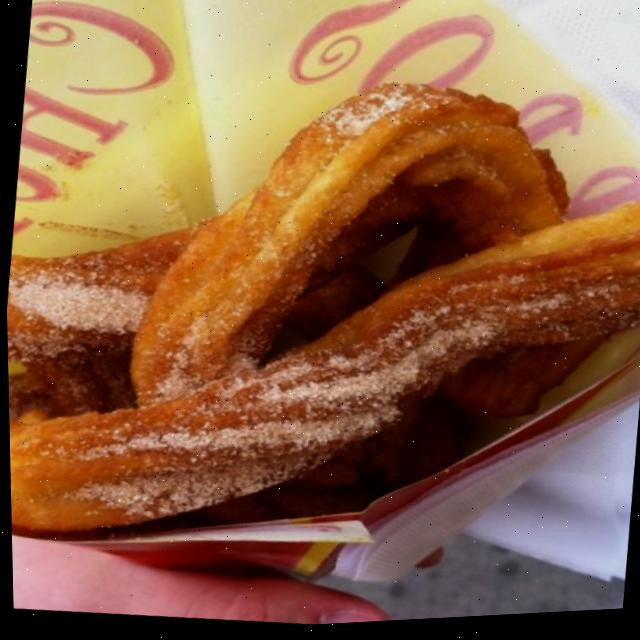炸货点心: (0, 0, 609, 616)
